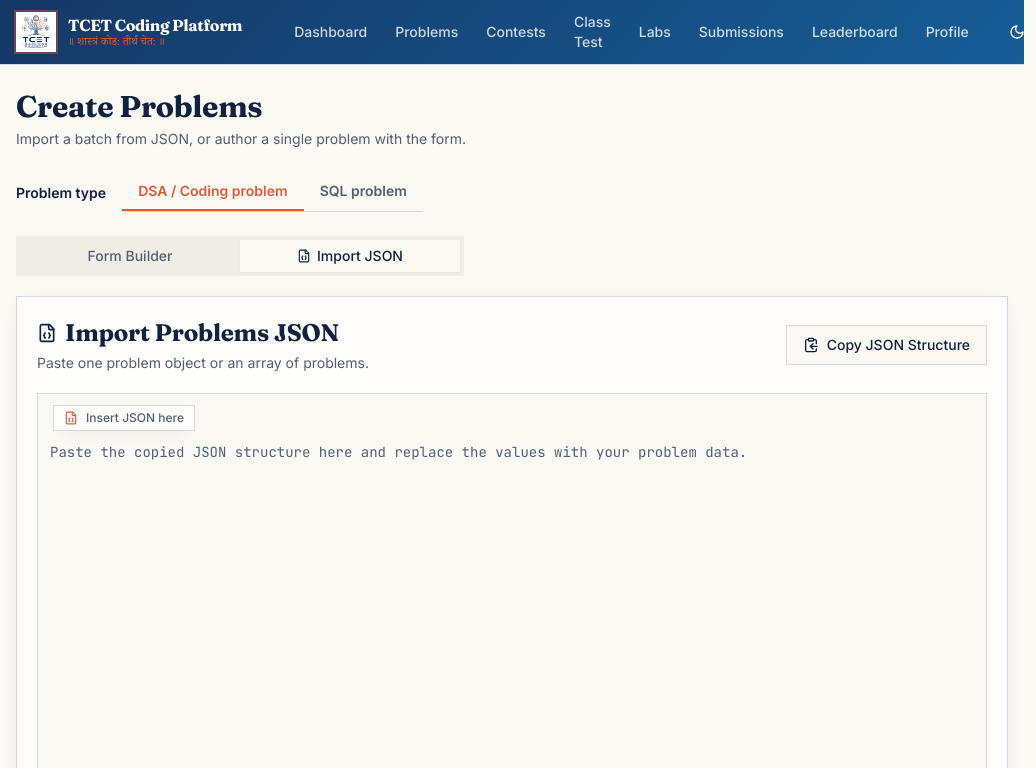
Create Problems › rejects a batch whose problems do not match the selected type
The image size is (1036, 768).
Click the button "SQL problem". click: (363, 192)
box: [304, 173, 423, 211]
(page scrolled)
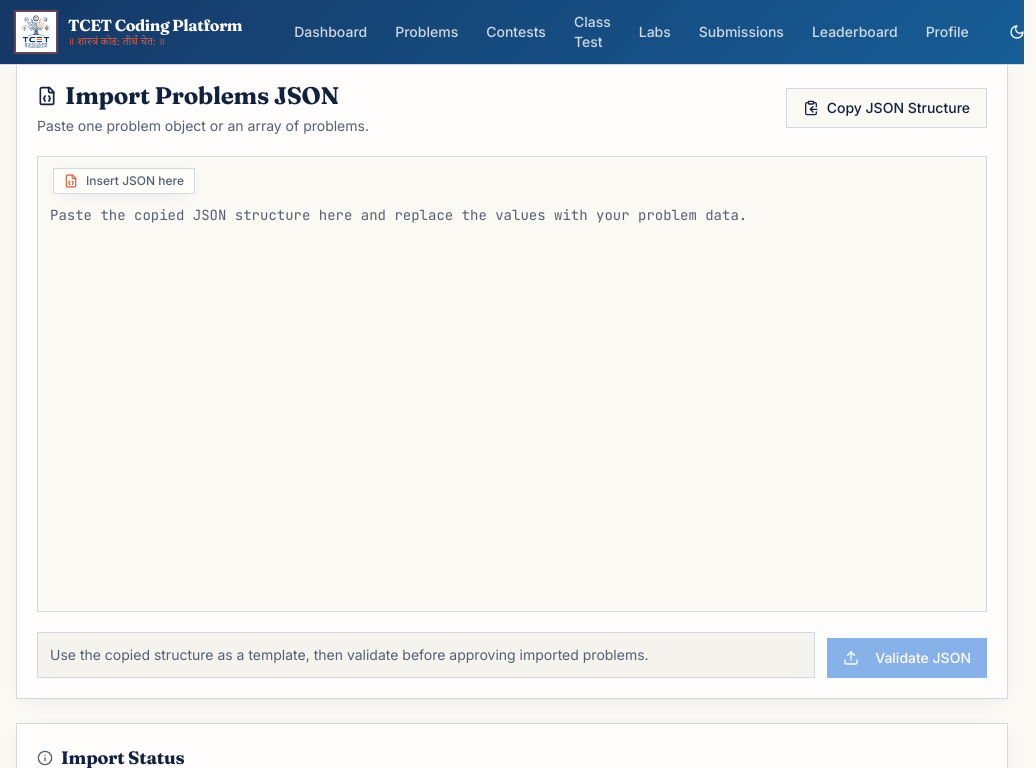
Replace the text in the text box with "[]". click: (512, 384)
box: [37, 156, 987, 612]
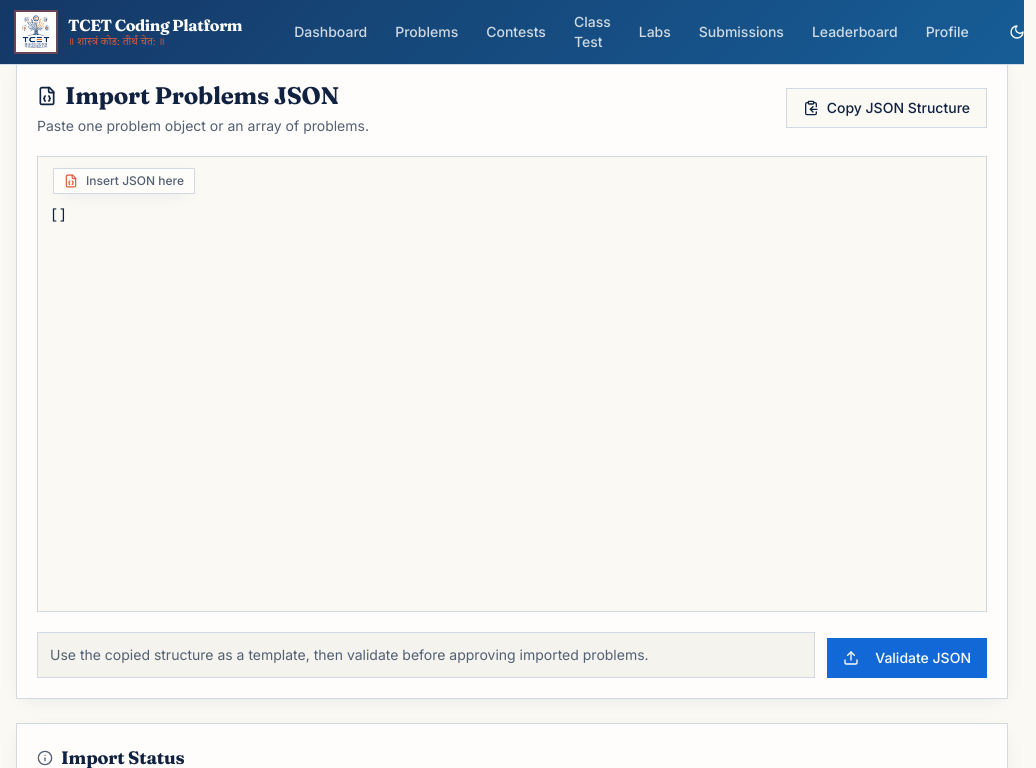
Click the button "Validate JSON". click: (907, 658)
box: [827, 638, 987, 678]
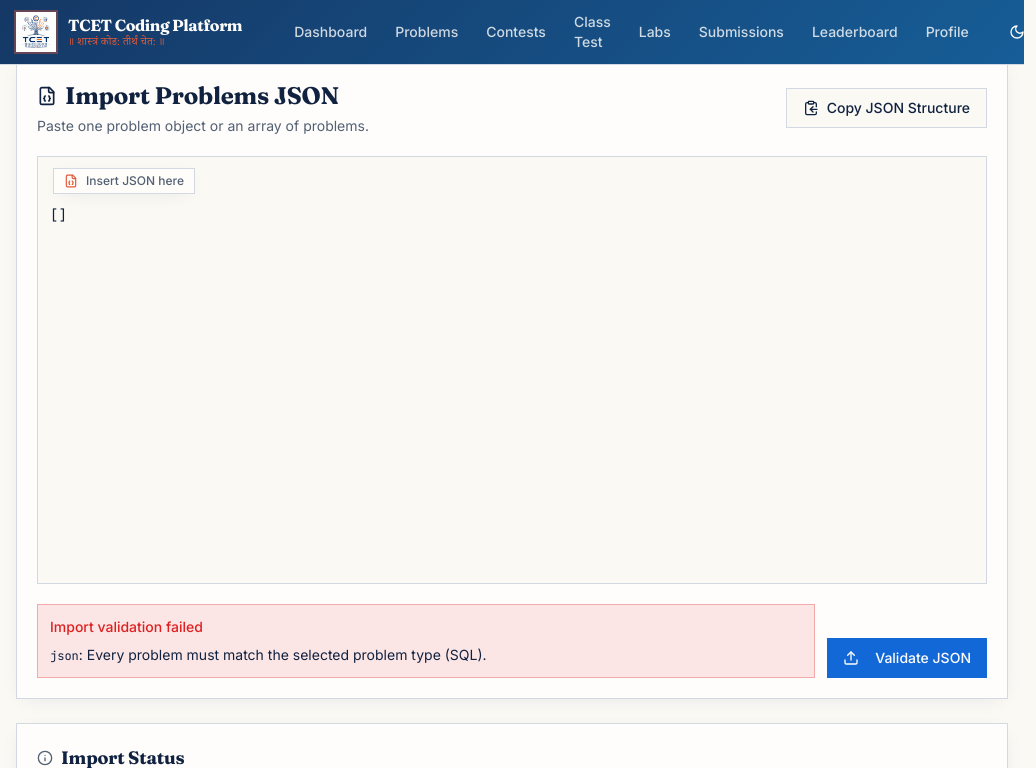
Check: the list item "must match the selected problem type" is shown, box [87, 646, 487, 663]
